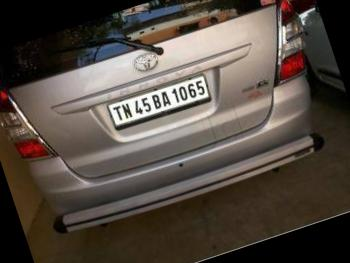plate: (103, 71, 219, 136)
